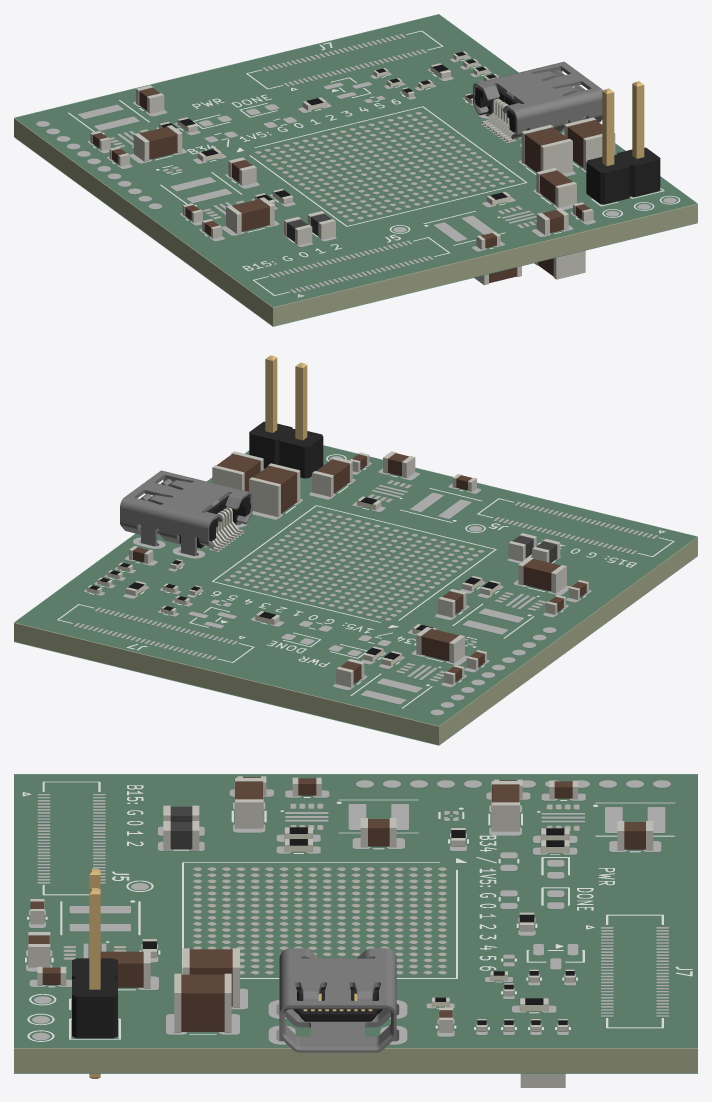
Rendered from fpga50t.glb.
The picture shows the model from 3 angles, top to bottom: view 1: azimuth 30°, elevation 25°; view 2: azimuth 150°, elevation 25°; view 3: azimuth 270°, elevation 25°; orthographic projection. The views are drawn at different scales.
Visible parts, largest first — view 1: =>[0:1:1:29], =>[0:1:1:27], =>[0:1:1:24], =>[0:1:1:9], =>[0:1:1:19], =>[0:1:1:7] (×3), =>[0:1:1:17] (×3), =>[0:1:1:25], =>[0:1:1:15] (×3), =>[0:1:1:13] (×2), =>[0:1:1:28]; view 2: =>[0:1:1:29], =>[0:1:1:27], =>[0:1:1:24], =>[0:1:1:9], =>[0:1:1:19], =>[0:1:1:17] (×3), =>[0:1:1:7] (×2), =>[0:1:1:25], =>[0:1:1:15] (×3), =>[0:1:1:28], =>[0:1:1:13]; view 3: =>[0:1:1:29], =>[0:1:1:27], =>[0:1:1:24], =>[0:1:1:9], =>[0:1:1:7] (×3), =>[0:1:1:25], =>[0:1:1:19], =>[0:1:1:17] (×3), =>[0:1:1:15] (×3), =>[0:1:1:3] (×3), =>[0:1:1:13] (×2), =>[0:1:1:28].
Boxes of the visible parts, x1=… form: =>[0:1:1:29]: x1=14, y1=15, x2=697, y2=326; =>[0:1:1:27]: x1=14, y1=14, x2=697, y2=307; =>[0:1:1:24]: x1=36, y1=34, x2=676, y2=293; =>[0:1:1:9]: x1=473, y1=61, x2=602, y2=142; =>[0:1:1:19]: x1=586, y1=81, x2=660, y2=204; =>[0:1:1:7] (×3): x1=521, y1=117, x2=615, y2=279; =>[0:1:1:17] (×3): x1=133, y1=125, x2=576, y2=233; =>[0:1:1:25]: x1=68, y1=30, x2=680, y2=297; =>[0:1:1:15] (×3): x1=136, y1=85, x2=568, y2=234; =>[0:1:1:13] (×2): x1=284, y1=211, x2=335, y2=245; =>[0:1:1:28]: x1=14, y1=137, x2=697, y2=326; =>[0:1:1:29]: x1=14, y1=446, x2=697, y2=744; =>[0:1:1:27]: x1=14, y1=445, x2=697, y2=725; =>[0:1:1:24]: x1=74, y1=456, x2=657, y2=715; =>[0:1:1:9]: x1=120, y1=470, x2=252, y2=555; =>[0:1:1:19]: x1=249, y1=355, x2=323, y2=478; =>[0:1:1:17] (×3): x1=312, y1=457, x2=566, y2=663; =>[0:1:1:7] (×2): x1=212, y1=451, x2=300, y2=516; =>[0:1:1:25]: x1=57, y1=454, x2=674, y2=708; =>[0:1:1:15] (×3): x1=336, y1=451, x2=466, y2=687; =>[0:1:1:28]: x1=14, y1=556, x2=697, y2=745; =>[0:1:1:13]: x1=508, y1=533, x2=536, y2=561; =>[0:1:1:29]: x1=14, y1=775, x2=697, y2=1072; =>[0:1:1:27]: x1=14, y1=774, x2=697, y2=1047; =>[0:1:1:24]: x1=26, y1=780, x2=670, y2=1044; =>[0:1:1:9]: x1=279, y1=948, x2=396, y2=1052; =>[0:1:1:7] (×3): x1=174, y1=948, x2=565, y2=1087; =>[0:1:1:25]: x1=22, y1=781, x2=692, y2=1041; =>[0:1:1:19]: x1=72, y1=868, x2=117, y2=1078; =>[0:1:1:17] (×3): x1=100, y1=778, x2=519, y2=988; =>[0:1:1:15] (×3): x1=28, y1=818, x2=653, y2=967; =>[0:1:1:3] (×3): x1=37, y1=777, x2=577, y2=985; =>[0:1:1:13] (×2): x1=163, y1=805, x2=199, y2=850; =>[0:1:1:28]: x1=14, y1=1073, x2=697, y2=1073.
Size of the model in its own units: 0.0367 by 0.0127 by 0.038.
